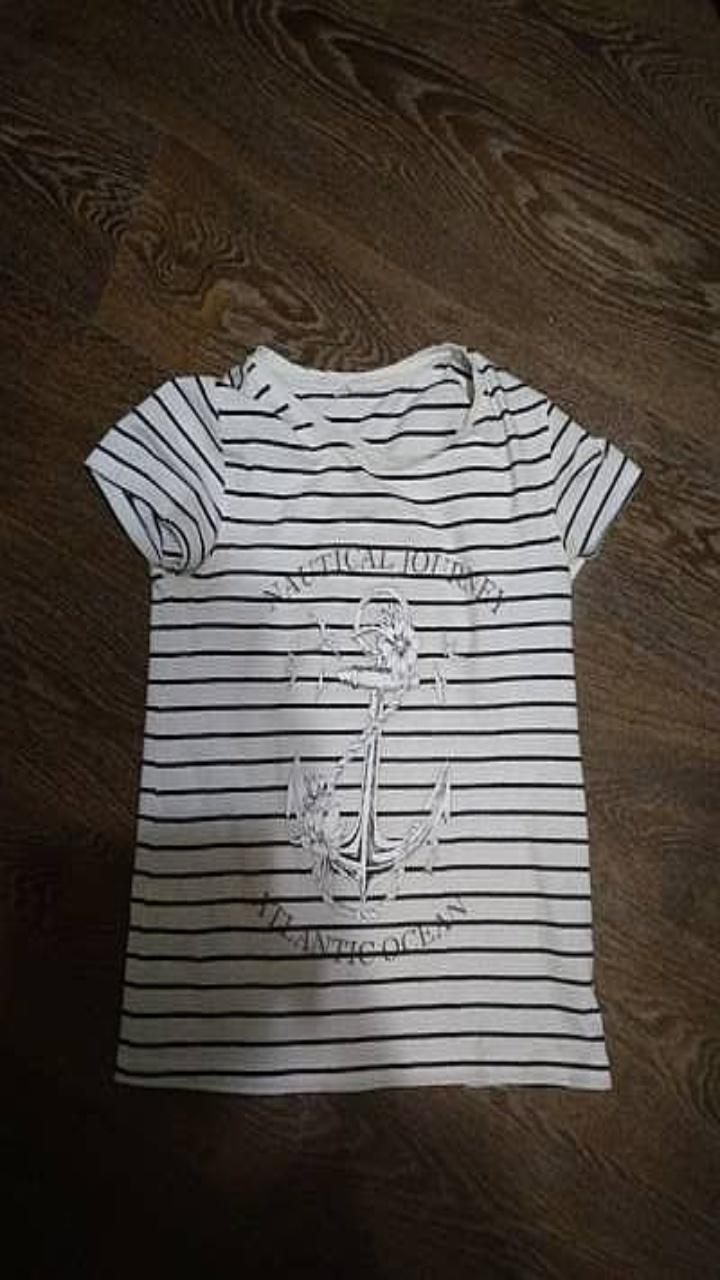T-Shirt: (85, 342, 641, 1093)
